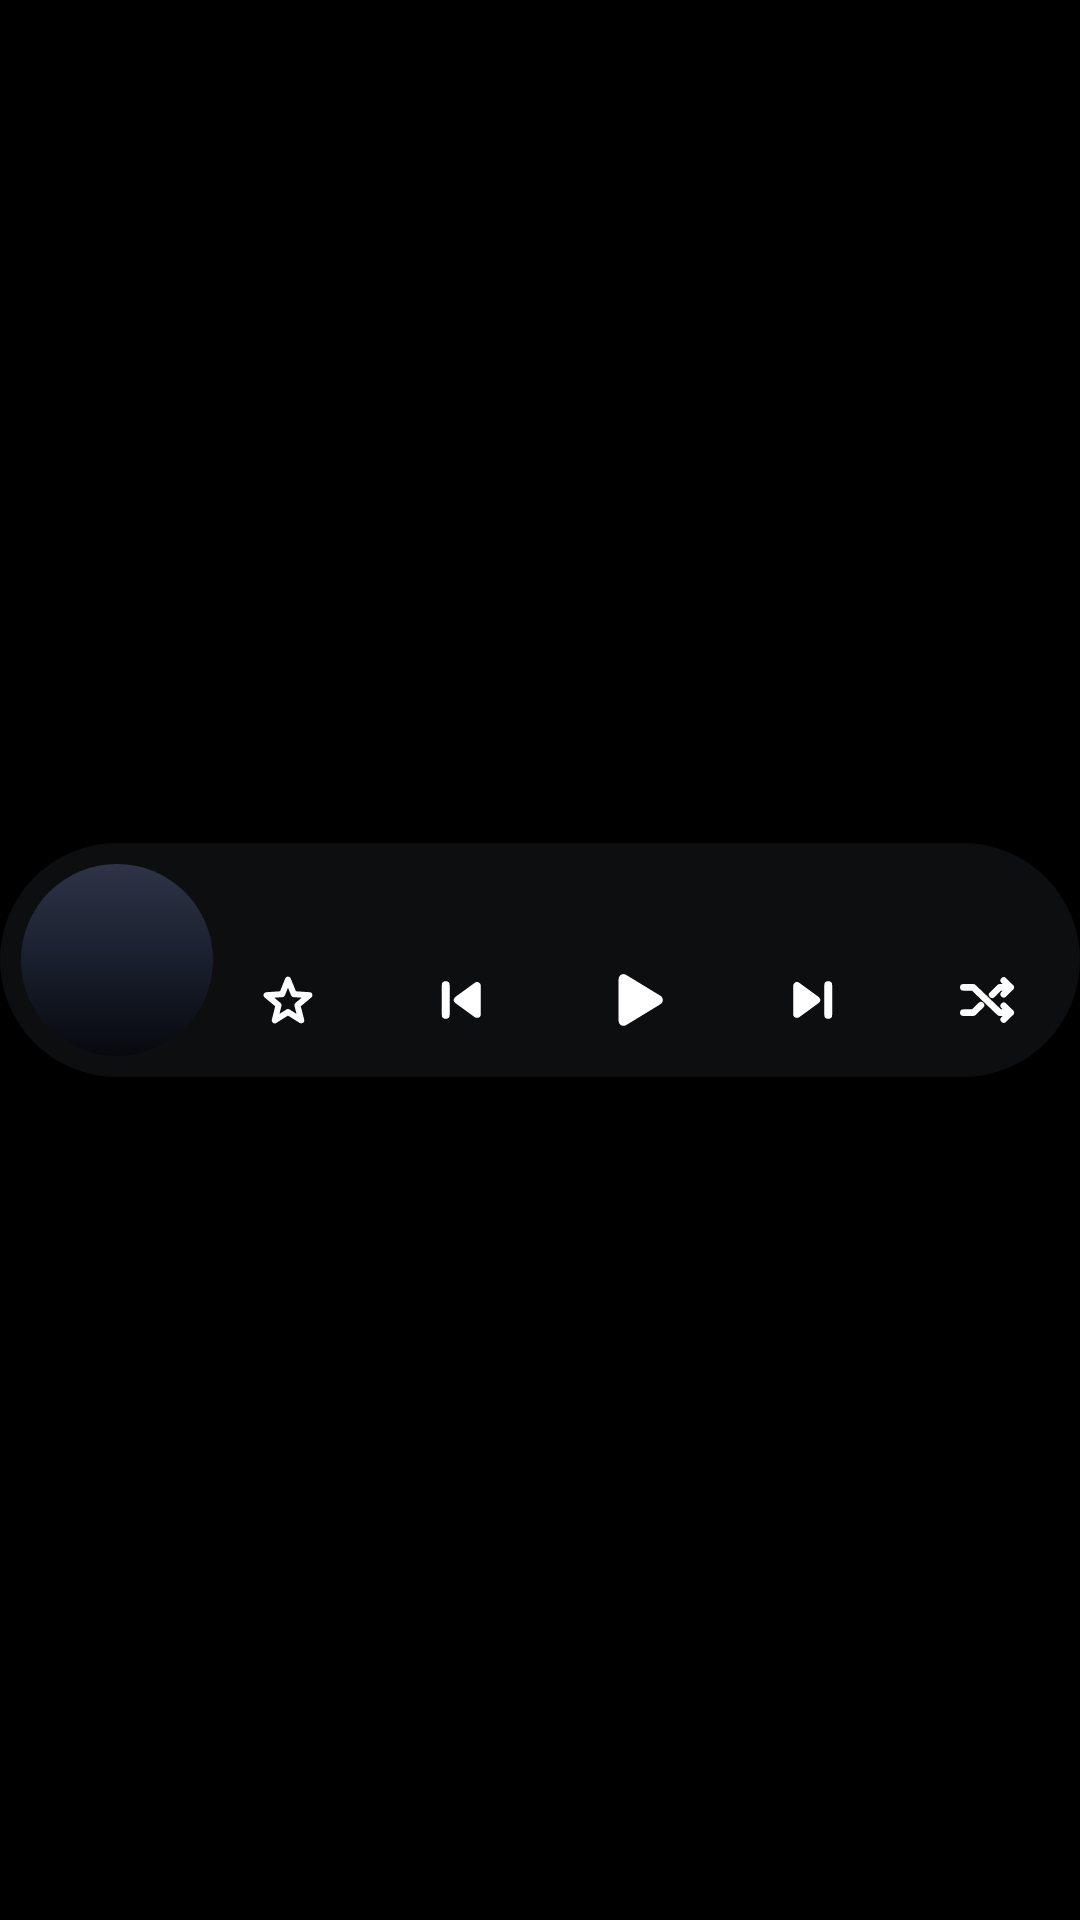

Icons on this 1080w x 1920h Android screen, each with the point to tap as [x,y]:
Like: [288,1000]
Next: [813,1000]
Play: [640,1000]
Previous: [461,1000]
Shuffle off: [987,1000]
